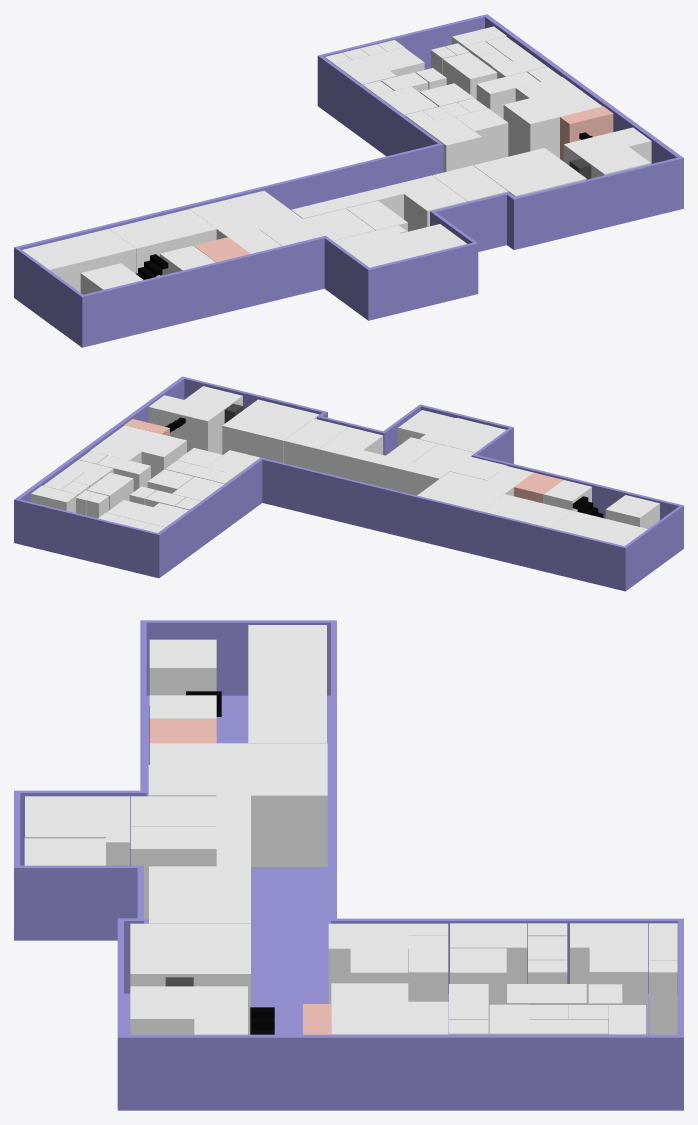
3 renders of one model, top to bottom at view 1: azimuth 30°, elevation 25°; view 2: azimuth 150°, elevation 25°; view 3: azimuth 270°, elevation 25°, orthographic. The views are drawn at different scales.
Parts seen in each view (by area): view 1: object, 心理学研究教員室, 社会調査実習室2, 資料室, 応接室, キャリア形成支援課第1事務室, 社会学パソコン室, 社会学研究教員室, 社会調査実習室1, 準備室K(社会心理学), 男子トイレ_4_3_2, 社会調査実習室3 (+19 smaller); view 2: object, 社会調査実習室2, 社会学研究教員室, 社会学パソコン室, 資料室, 心理学研究教員室, 社会調査実習室3, 応接室, キャリア形成支援課第1事務室, 社会調査実習室1, キャリア形成支援課, カンファレンスルーム (+18 smaller); view 3: object, 資料室, 社会学パソコン室, 社会学研究教員室, 社会調査実習室2, 心理学研究教員室, 社会調査実習室1, 応接室, キャリア形成支援課第1事務室, 共同編集室, キャリア形成支援課, 社会調査実習室3 (+21 smaller).
Part boxes in pixels (x1=…): object: x1=14, y1=14, x2=683, y2=347; 心理学研究教員室: x1=503, y1=76, x2=602, y2=158; 社会調査実習室2: x1=291, y1=175, x2=467, y2=231; 資料室: x1=190, y1=190, x2=301, y2=253; 応接室: x1=22, y1=229, x2=136, y2=292; キャリア形成支援課第1事務室: x1=109, y1=209, x2=216, y2=276; 社会学パソコン室: x1=473, y1=148, x2=586, y2=196; 社会学研究教員室: x1=563, y1=127, x2=651, y2=178; 社会調査実習室1: x1=333, y1=225, x2=427, y2=267; 準備室K(社会心理学): x1=418, y1=116, x2=481, y2=172; 男子トイレ_4_3_2: x1=560, y1=106, x2=613, y2=161; 社会調査実習室3: x1=432, y1=165, x2=508, y2=201; object: x1=14, y1=376, x2=683, y2=591; 社会調査実習室2: x1=318, y1=427, x2=449, y2=495; 社会学研究教員室: x1=148, y1=386, x2=242, y2=454; 社会学パソコン室: x1=222, y1=399, x2=319, y2=462; 資料室: x1=417, y1=466, x2=533, y2=510; 心理学研究教員室: x1=90, y1=425, x2=186, y2=478; 社会調査実習室3: x1=283, y1=418, x2=348, y2=471; 応接室: x1=550, y1=511, x2=647, y2=545; キャリア形成支援課第1事務室: x1=481, y1=494, x2=572, y2=527; 社会調査実習室1: x1=419, y1=418, x2=505, y2=452; キャリア形成支援課: x1=605, y1=495, x2=659, y2=528; カンファレンスルーム: x1=398, y1=410, x2=455, y2=446; object: x1=14, y1=620, x2=683, y2=1110; 資料室: x1=149, y1=743, x2=327, y2=866; 社会学パソコン室: x1=130, y1=923, x2=250, y2=1034; 社会学研究教員室: x1=130, y1=986, x2=247, y2=1034; 社会調査実習室2: x1=149, y1=795, x2=250, y2=894; 心理学研究教員室: x1=331, y1=983, x2=448, y2=1034; 社会調査実習室1: x1=25, y1=796, x2=129, y2=865; 応接室: x1=248, y1=625, x2=326, y2=686; キャリア形成支援課第1事務室: x1=248, y1=686, x2=326, y2=743; 共同編集室: x1=130, y1=826, x2=216, y2=919; キャリア形成支援課: x1=149, y1=639, x2=216, y2=695; 社会調査実習室3: x1=149, y1=894, x2=250, y2=923.
Bounding box in the file's own units: 2.83 × 0.2369 × 1.92.
